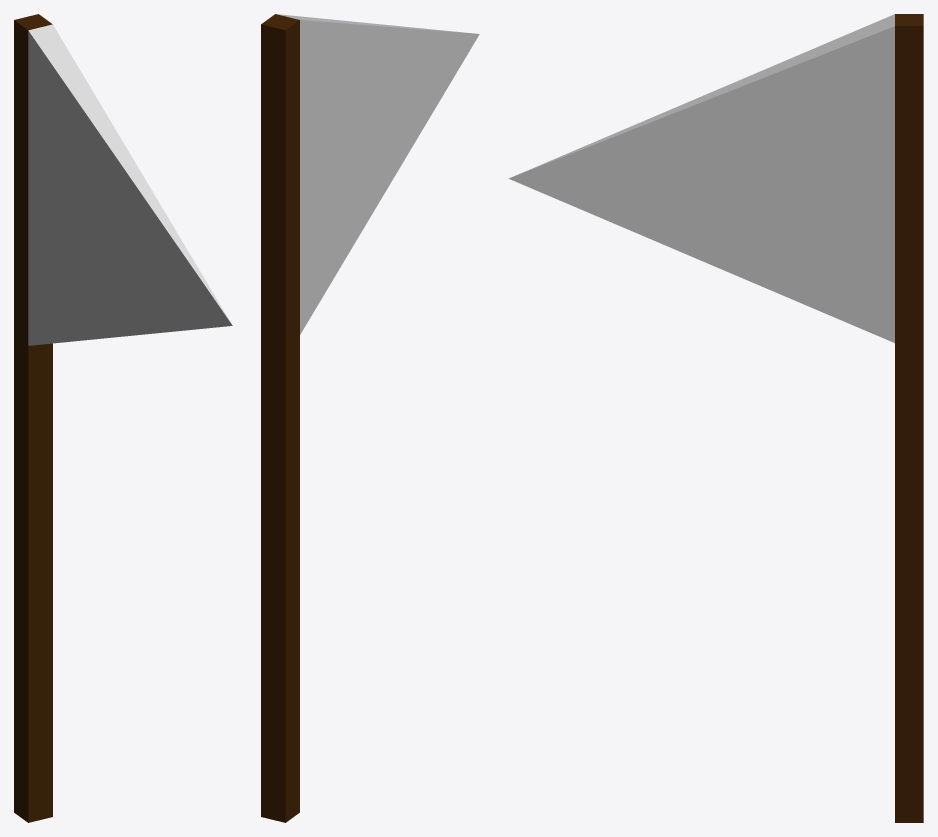
Rendered from Flag02.glb.
3 views of the same model, side by side, from view 1: azimuth 30°, elevation 25°; view 2: azimuth 150°, elevation 25°; view 3: azimuth 270°, elevation 25° (orthographic).
Visible parts, largest first — view 1: Flag02; view 2: Flag02; view 3: Flag02.
Part boxes in pixels (x1,y1,x2,y2): Flag02: (14, 14, 232, 822); Flag02: (261, 14, 479, 822); Flag02: (508, 14, 923, 822).
Size of the model in its own units: 0.0764 by 2.35 by 1.11.
